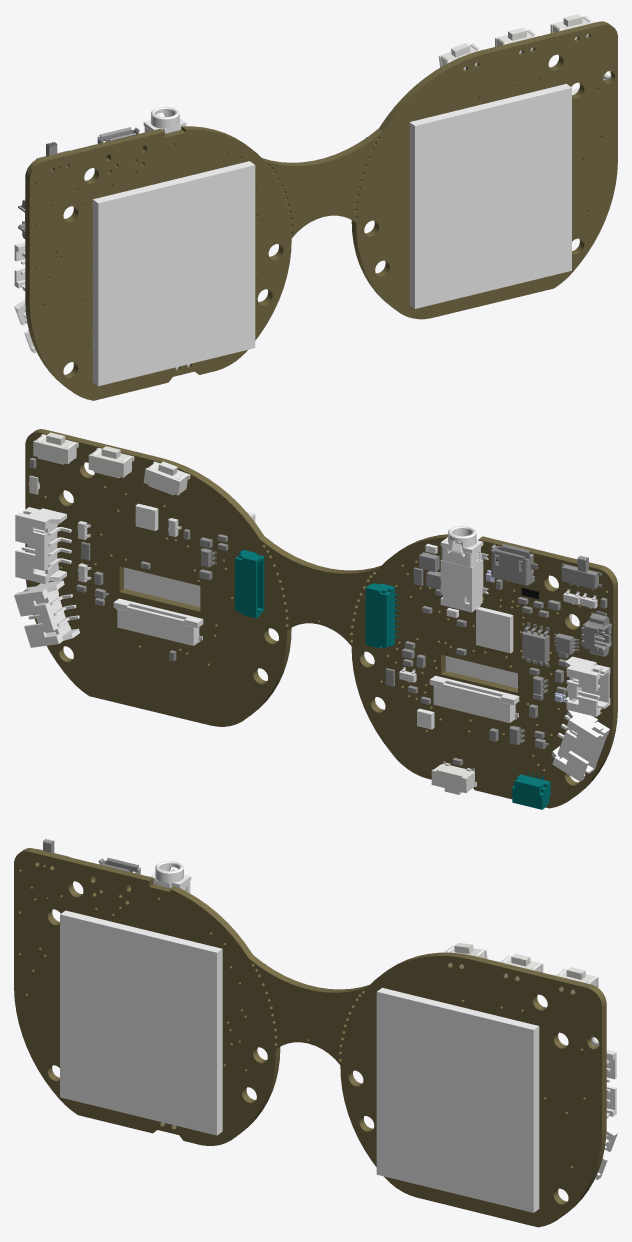
Rendered from MONSTER M4SK revD.glb.
3 views of the same model, one above another, from view 1: azimuth 30°, elevation 25°; view 2: azimuth 150°, elevation 25°; view 3: azimuth 330°, elevation 25° (orthographic).
Visible parts, largest first — view 1: PCB Component, Board; view 2: Board, PCB Component, SPST_TACTILE_RA (×4), JST_SH9 (×2), 4UCONN_20329_NARROW, JST_SH4, SOIC8_208MIL, SPDT_SMT_SSSS811101; view 3: PCB Component, Board.
Part boxes in pixels (x1=…): PCB Component: x1=14, y1=84, x2=579, y2=386; Board: x1=25, y1=21, x2=617, y2=400; Board: x1=25, y1=429, x2=617, y2=808; PCB Component: x1=14, y1=503, x2=611, y2=781; SPST_TACTILE_RA (×4): x1=33, y1=432, x2=476, y2=794; JST_SH9 (×2): x1=235, y1=550, x2=398, y2=648; 4UCONN_20329_NARROW: x1=490, y1=544, x2=537, y2=585; JST_SH4: x1=512, y1=772, x2=550, y2=809; SOIC8_208MIL: x1=522, y1=622, x2=549, y2=667; SPDT_SMT_SSSS811101: x1=561, y1=555, x2=601, y2=590; PCB Component: x1=60, y1=861, x2=617, y2=1212; Board: x1=14, y1=848, x2=606, y2=1227.
Bounding box in the file's own units: 118 × 50.43 × 10.27.
